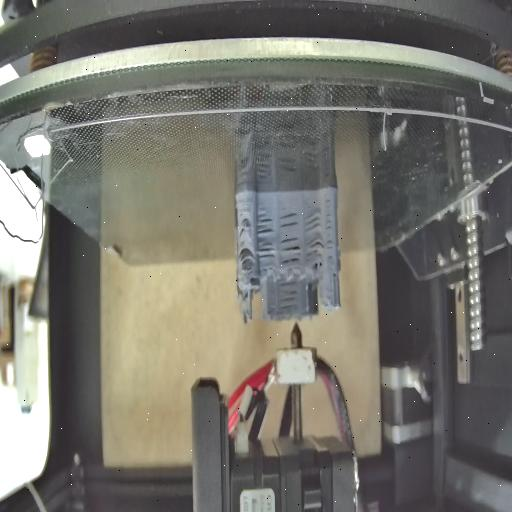cracks: (278, 280, 300, 314), (278, 236, 300, 266), (324, 200, 334, 260), (280, 206, 298, 234), (256, 208, 274, 236), (302, 208, 320, 232), (306, 235, 324, 256), (256, 240, 274, 258), (238, 252, 250, 276), (236, 223, 246, 242), (332, 272, 336, 286)
